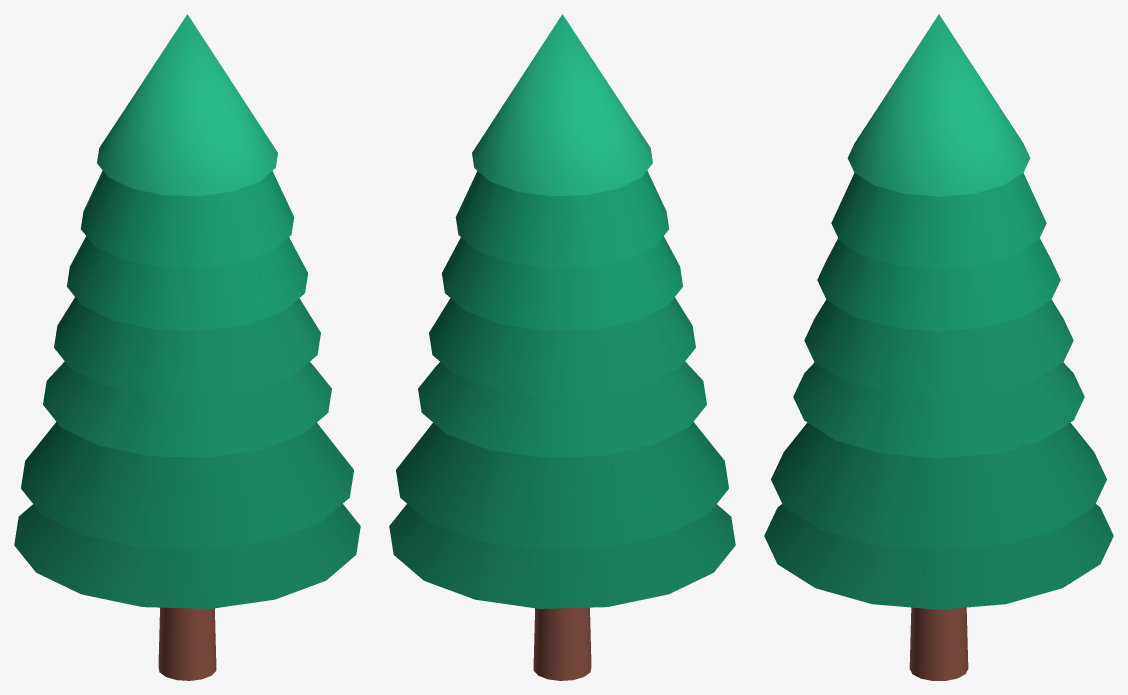
File: Spruce_Cold_Turquoise_2.fbx
3 renders of one model, left to right at view 1: azimuth 30°, elevation 25°; view 2: azimuth 150°, elevation 25°; view 3: azimuth 270°, elevation 25°, orthographic.
Parts seen in each view (by area): view 1: Cylinder.124, Cylinder.125, Cylinder.123, Cylinder.122, Cylinder.120, Cylinder.121, Cylinder.127, Cylinder.126; view 2: Cylinder.124, Cylinder.125, Cylinder.123, Cylinder.122, Cylinder.120, Cylinder.121, Cylinder.127, Cylinder.126; view 3: Cylinder.124, Cylinder.125, Cylinder.123, Cylinder.122, Cylinder.120, Cylinder.121, Cylinder.127, Cylinder.126.
Boxes of the visible parts, x1,y1,x2,y2 form: Cylinder.124: (21, 422, 353, 549); Cylinder.125: (14, 504, 360, 608); Cylinder.123: (97, 14, 277, 196); Cylinder.122: (43, 361, 331, 457); Cylinder.120: (54, 297, 320, 396); Cylinder.121: (67, 236, 307, 330); Cylinder.127: (80, 170, 294, 268); Cylinder.126: (158, 607, 216, 680); Cylinder.124: (396, 422, 728, 549); Cylinder.125: (389, 504, 735, 608); Cylinder.123: (472, 14, 652, 196); Cylinder.122: (418, 361, 706, 457); Cylinder.120: (429, 297, 695, 396); Cylinder.121: (442, 236, 682, 330); Cylinder.127: (455, 170, 669, 268); Cylinder.126: (533, 607, 591, 680); Cylinder.124: (771, 422, 1106, 550); Cylinder.125: (764, 504, 1113, 609); Cylinder.123: (847, 14, 1030, 196); Cylinder.122: (793, 362, 1084, 458); Cylinder.120: (804, 299, 1073, 397); Cylinder.121: (817, 238, 1060, 331); Cylinder.127: (831, 173, 1046, 268); Cylinder.126: (909, 607, 968, 680).
Bounding box in the file's own units: 276 × 570 × 276.
